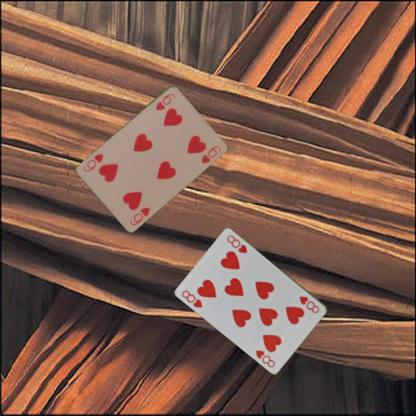6h: (153, 90, 177, 112), (127, 204, 151, 226)
8h: (179, 287, 204, 309), (297, 294, 321, 314)
